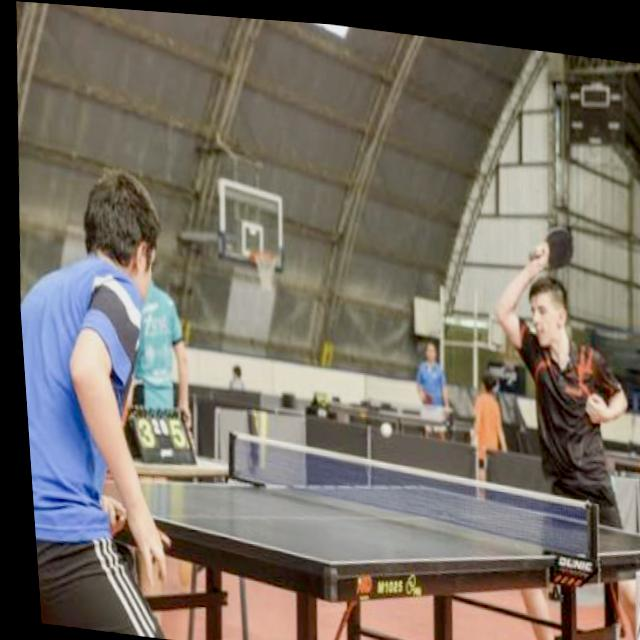TT Net: (224, 425, 602, 584)
TT Racket: (537, 214, 580, 279)
TT Table: (32, 477, 640, 566)
